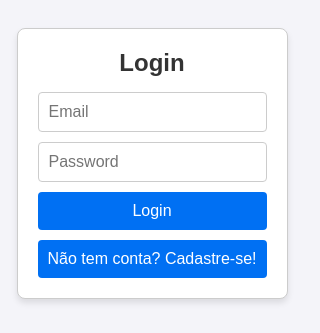
Test: LoginForm › deve mostrar erro de email inválido
This screenshot has width=320, height=333.
In the field with placeholder "Email": x=152, y=112 [38,92,266,132], type "invalid-email"
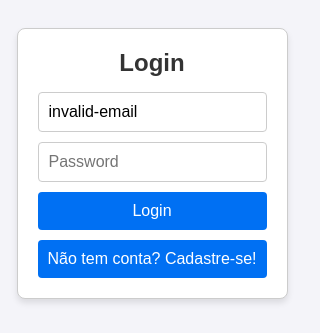
In the password field with placeholder "Password": x=152, y=162 [38,142,266,182], type "123456"
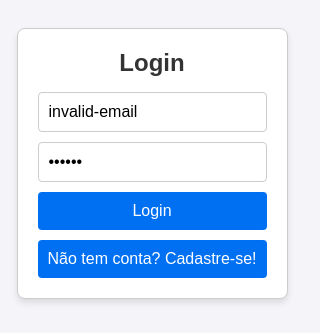
Click the button "Login": x=152, y=210 [38,192,266,230]
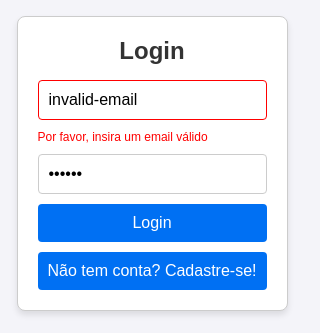
Now the text "Por favor, insira um email válido" is shown, box [38,130,208,144]
